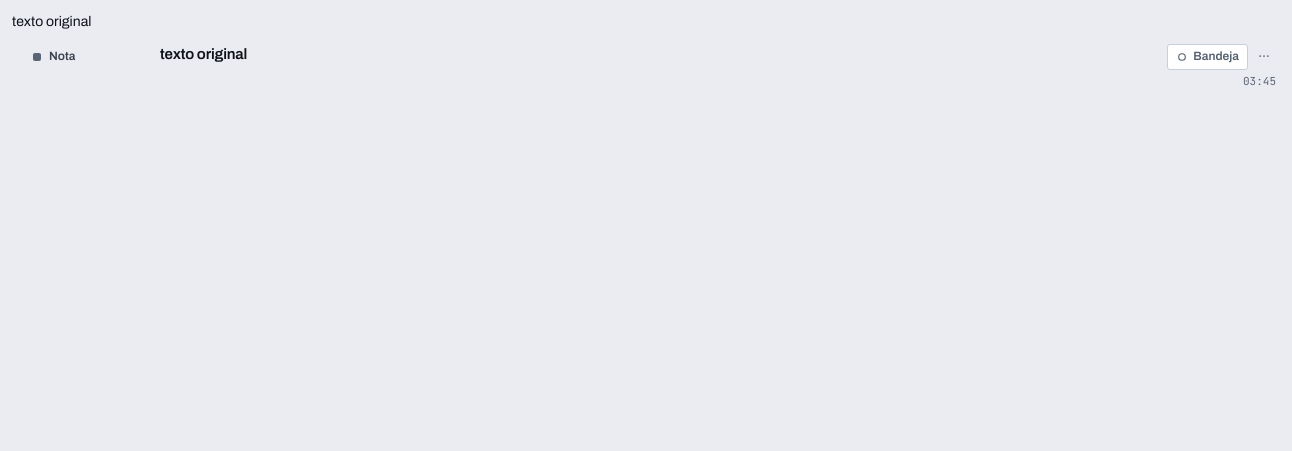
Test case: W2 — una escritura que falla › revierte la nota, deja el editor abierto y dice qué pasó
The width and height of the screenshot is (1292, 451).
Expected: the link "texto original" is shown, [160,46,247,62]
Click the button named "Acciones de la nota".
click(1264, 56)  # box [1252,44,1276,68]
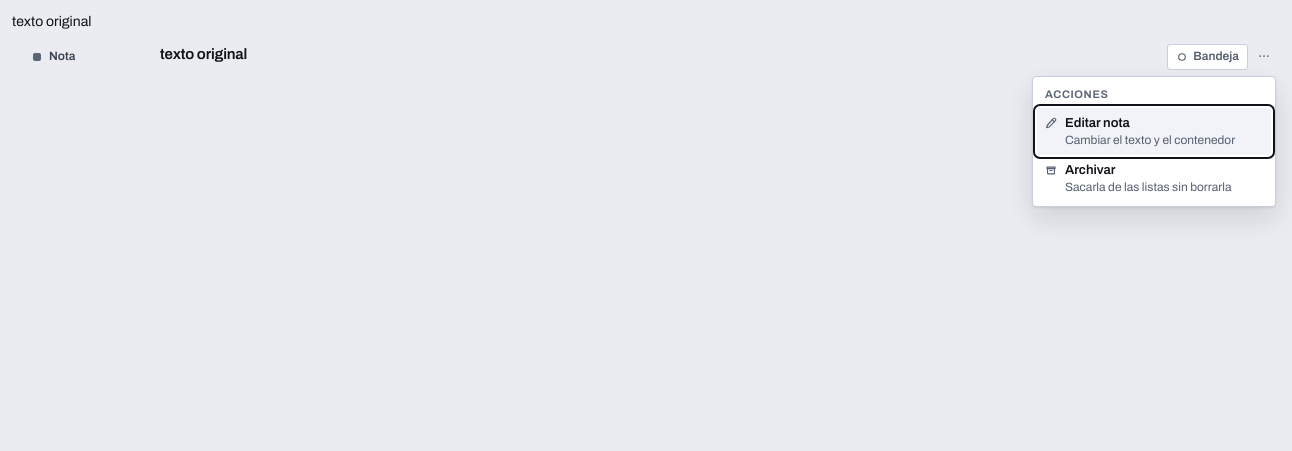
Click the menu item "Editar nota Cambiar el texto y el contenedor".
click(1154, 131)  # box [1037,108,1271,155]
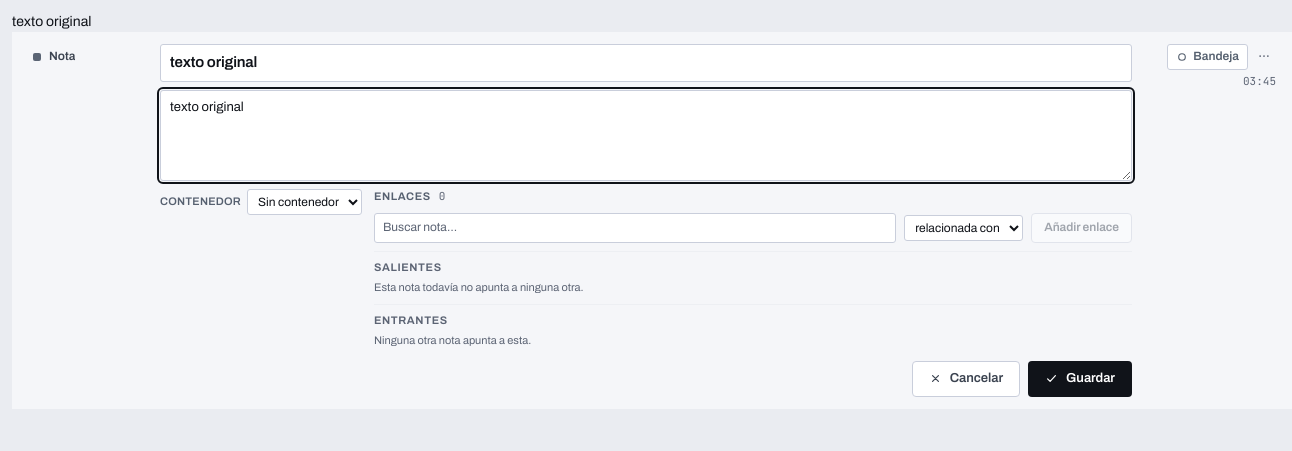
Replace the text in the text box named "Texto de la nota" with "texto que no se puede guardar" at point(646, 136), box [160,90,1132,181]
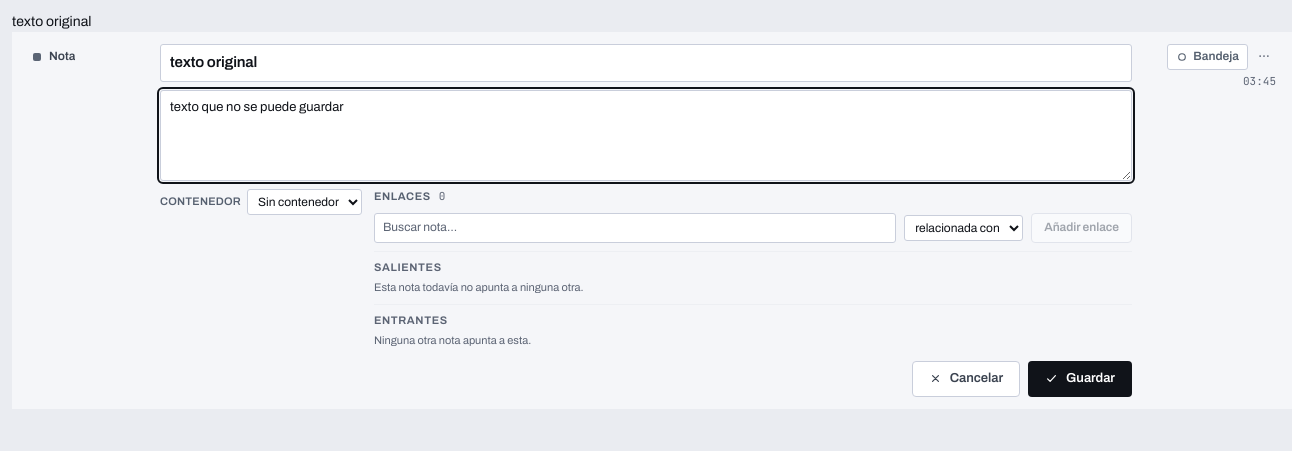
Click the button "Guardar".
click(1080, 378)  # box [1028,360,1132,396]
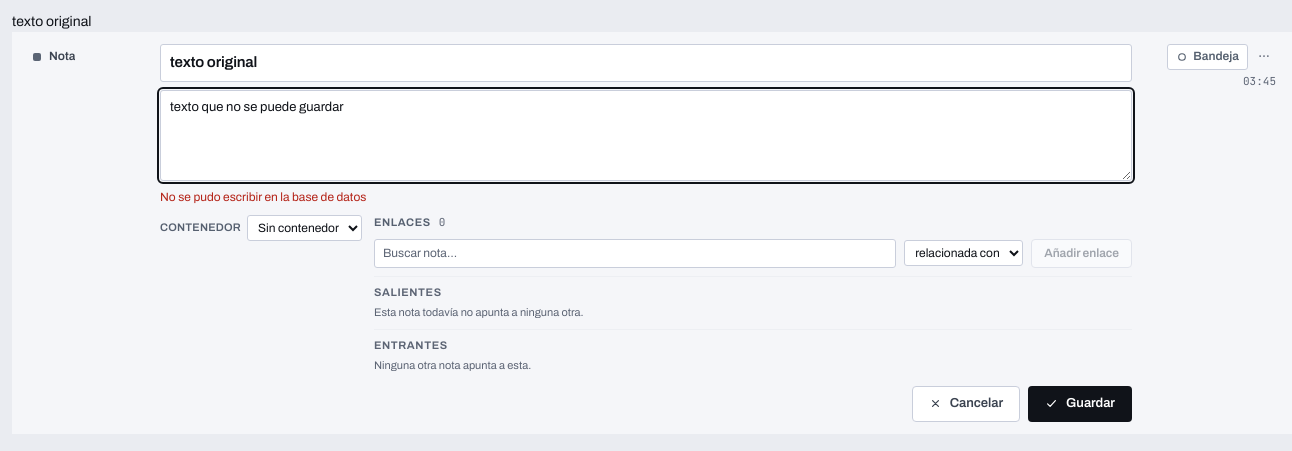
Expected: the text with test id "note-body" reads "texto original", [12,14,91,29]
Expected: the message reads "No se pudo escribir en la base de datos", [160,190,366,204]
